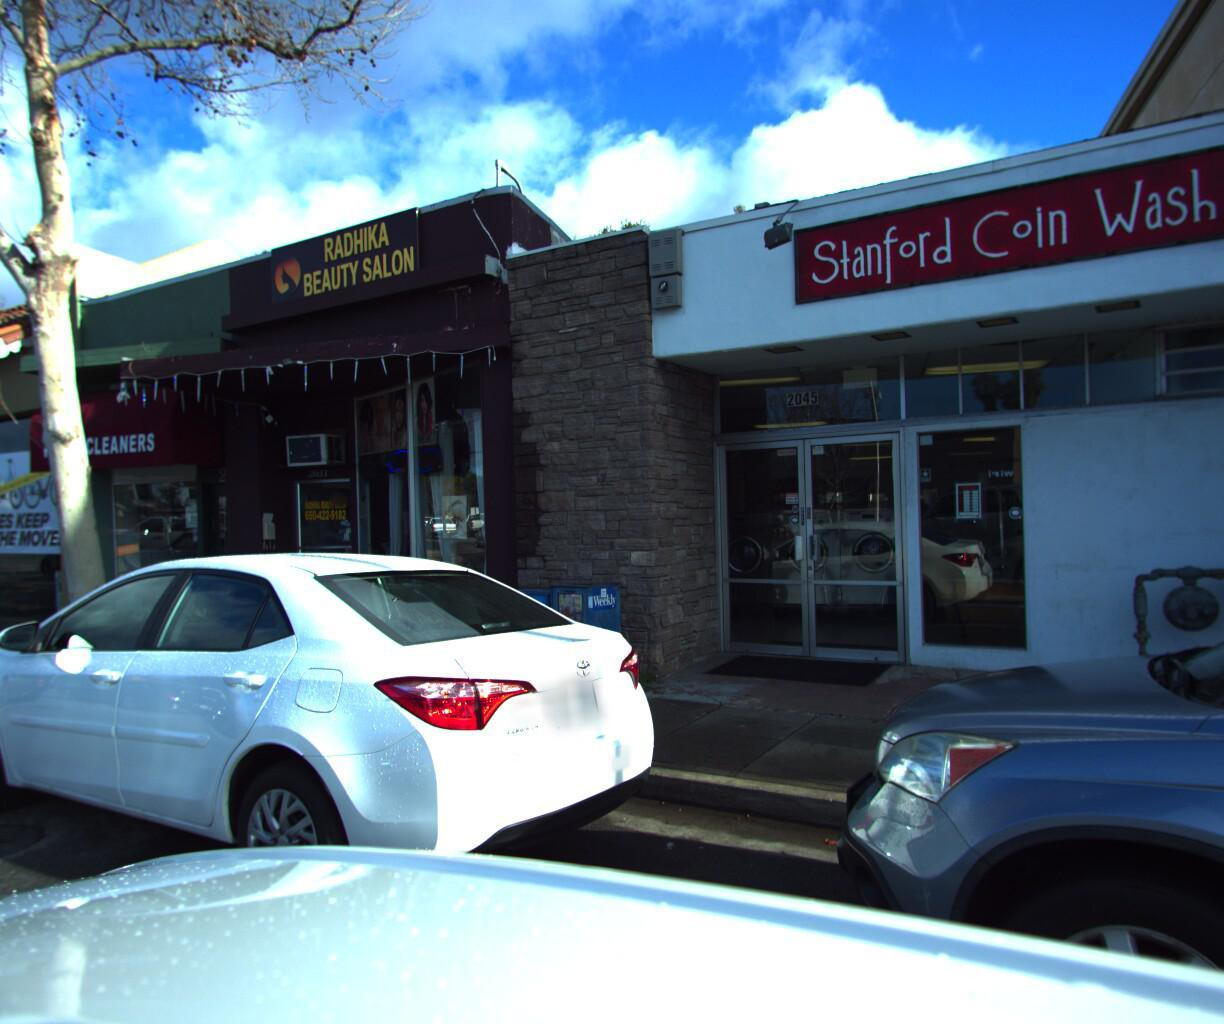car: (746, 24, 1224, 1024), (0, 529, 712, 1024)
